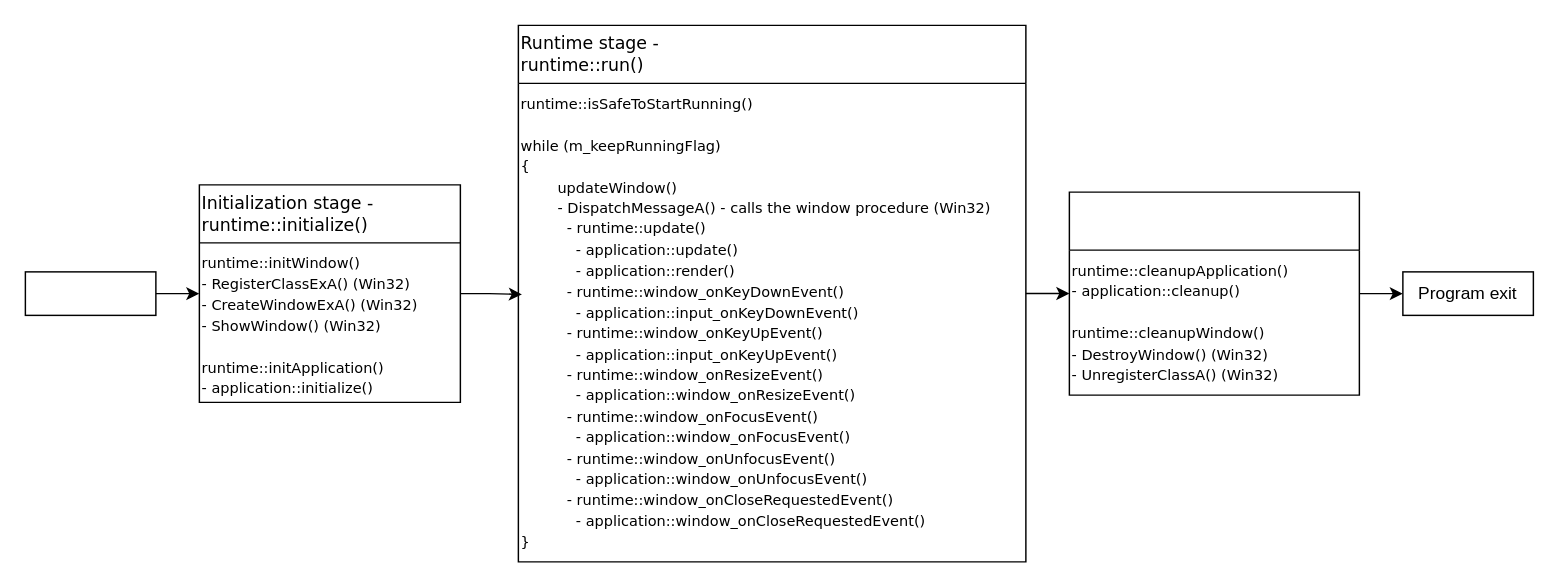
Some shapes in this 1559 by 587 pixel diagram are drawn without their labels. Each missing label, with the box of its shape:
Cleanup stage - runtime ::cleanup(): (1068, 191, 1359, 395)
Program start: (24, 270, 156, 315)
